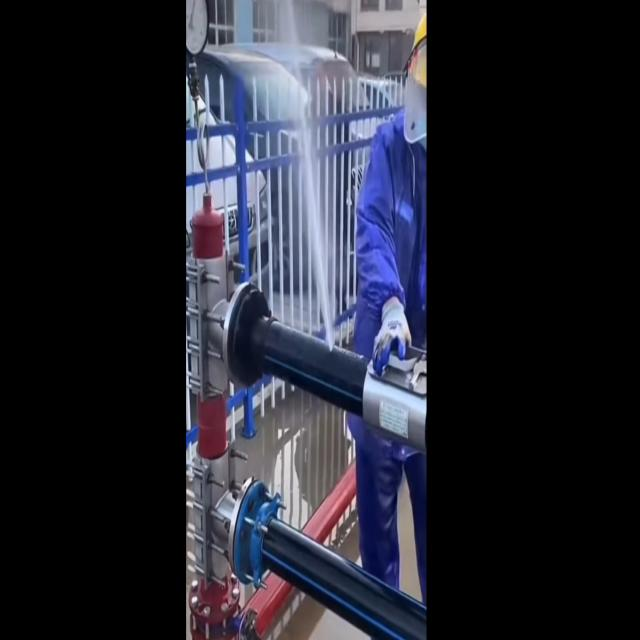leak: (301, 120, 334, 349)
